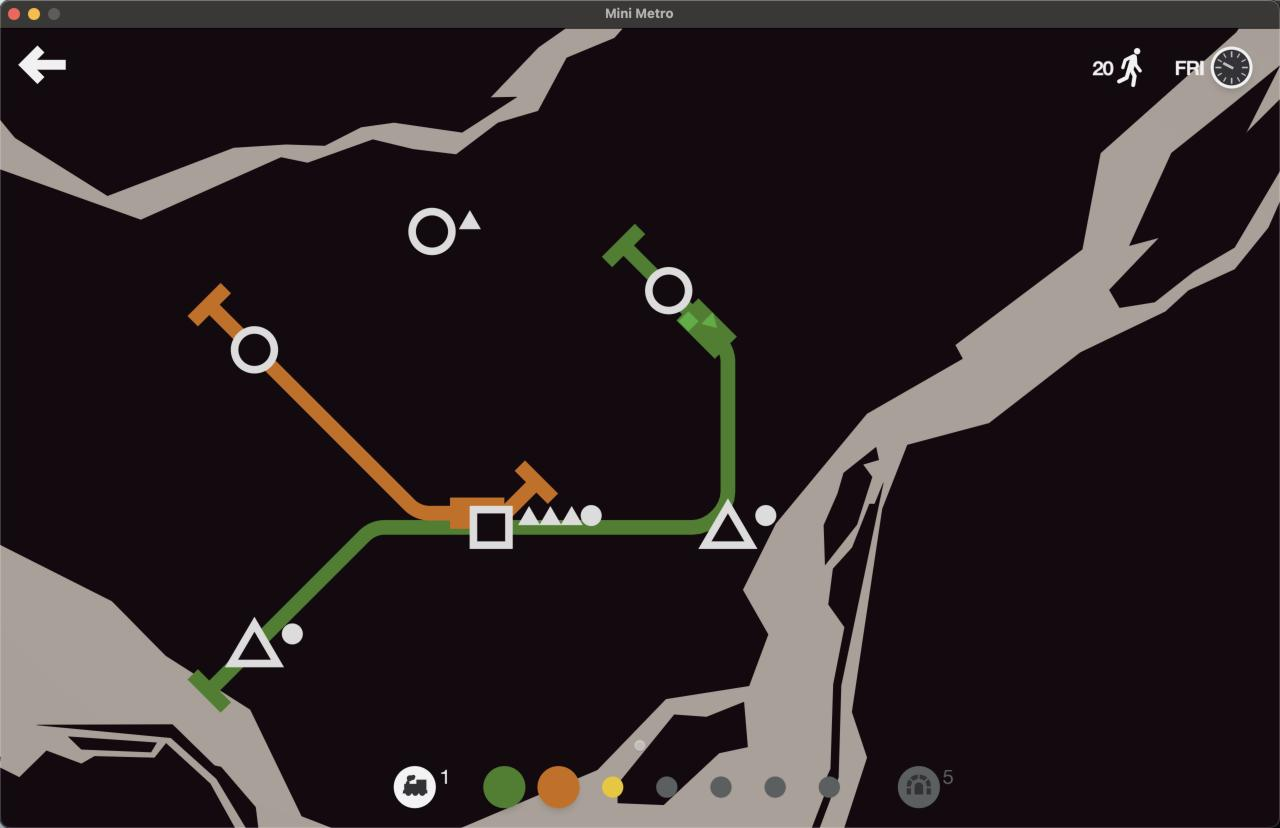CIRCLE: (406, 206, 459, 257), (229, 324, 281, 374), (644, 266, 695, 316)
SQUARE: (468, 505, 514, 550)
TRIANGLE: (225, 615, 287, 670), (699, 498, 757, 550)
